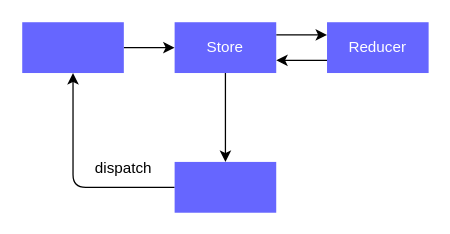
Some shapes in this 450 by 234 pixel diagram are drawn without their labels. Here are the shapes that lost their labels. From the top down, the centre of each, then its label:
point (72, 47): Actions
point (225, 186): Component
